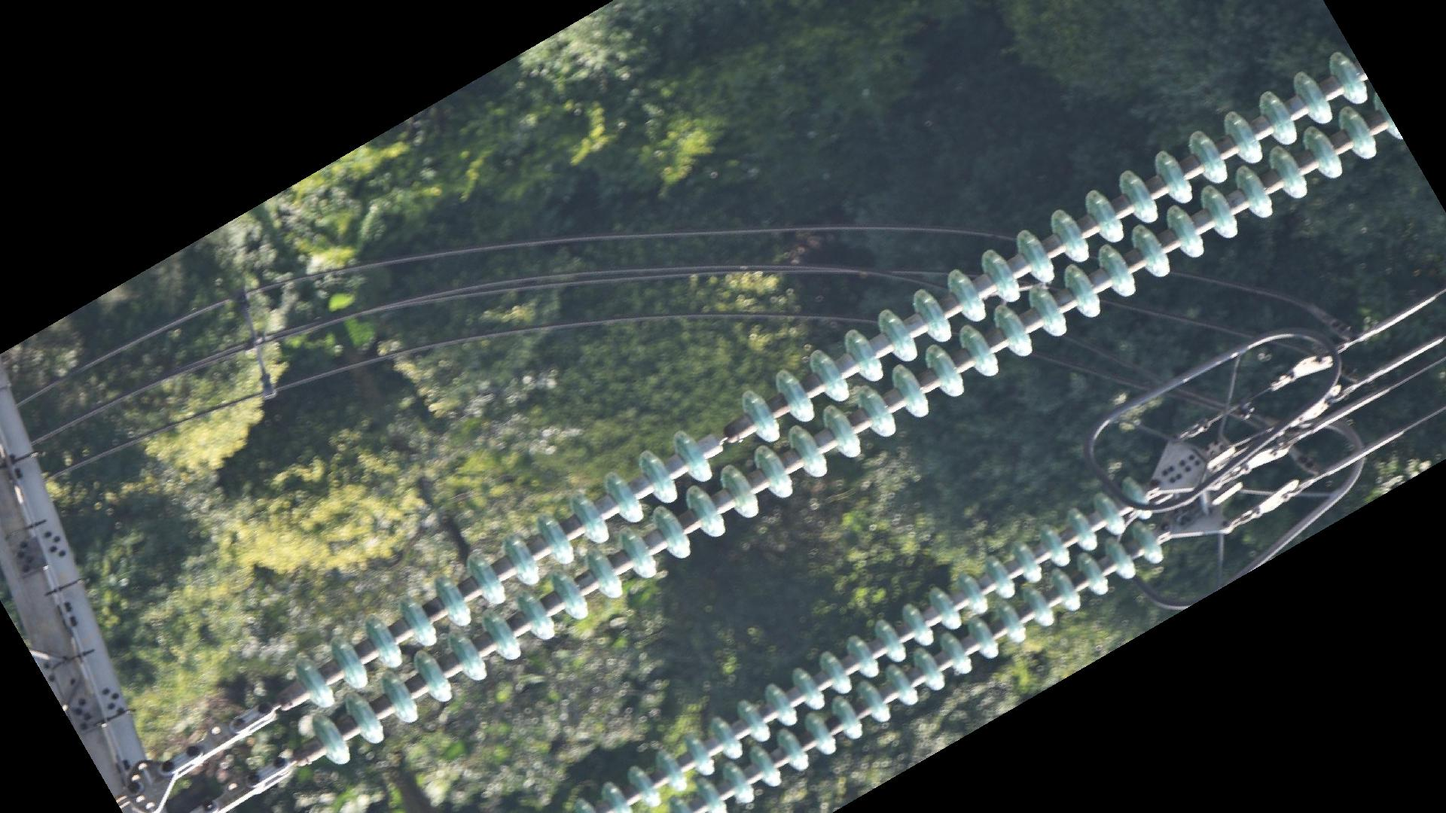insulator: (290, 47, 1406, 773), (572, 470, 1172, 813)
insulator_stringdrop: (670, 386, 785, 486)
